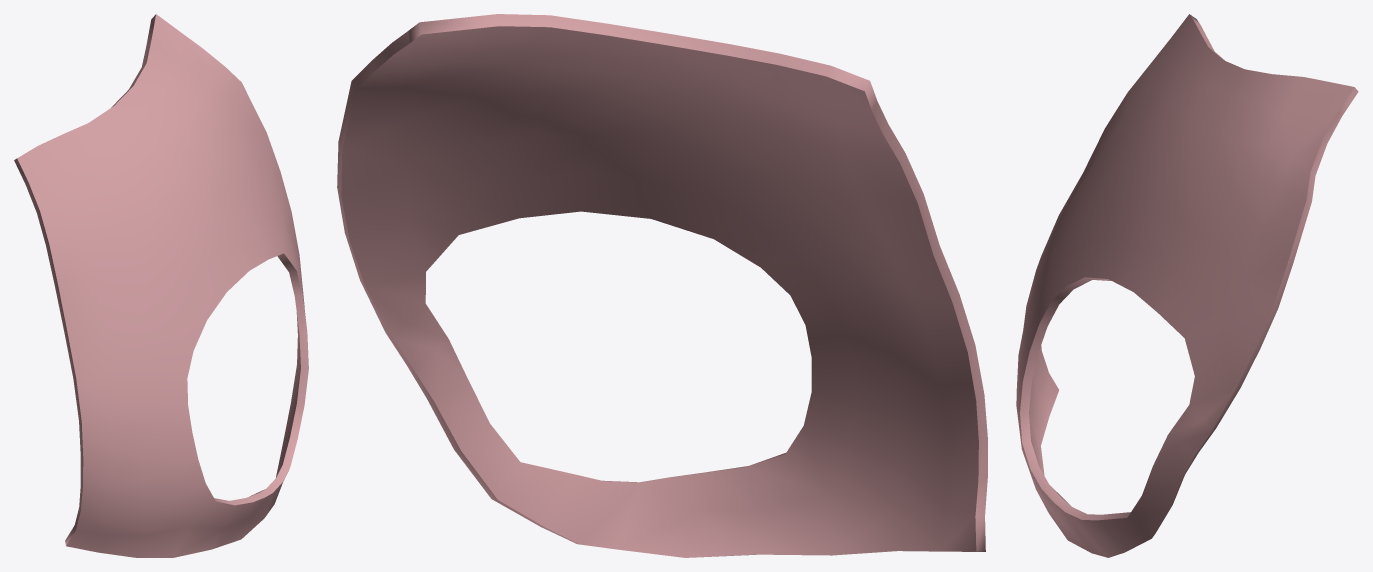
3 renders of one model, left to right at view 1: azimuth 30°, elevation 25°; view 2: azimuth 150°, elevation 25°; view 3: azimuth 270°, elevation 25°, orthographic. The views are drawn at different scales.
Parts seen in each view (by area): view 1: ZA_17e7bc88280f530c; view 2: ZA_17e7bc88280f530c; view 3: ZA_17e7bc88280f530c.
Part boxes in pixels (x1,y1,x2,y2): ZA_17e7bc88280f530c: [14, 14, 308, 557]; ZA_17e7bc88280f530c: [337, 14, 987, 557]; ZA_17e7bc88280f530c: [1016, 14, 1358, 557].
Size of the model in its own units: 0.136 by 0.1737 by 0.1131.
